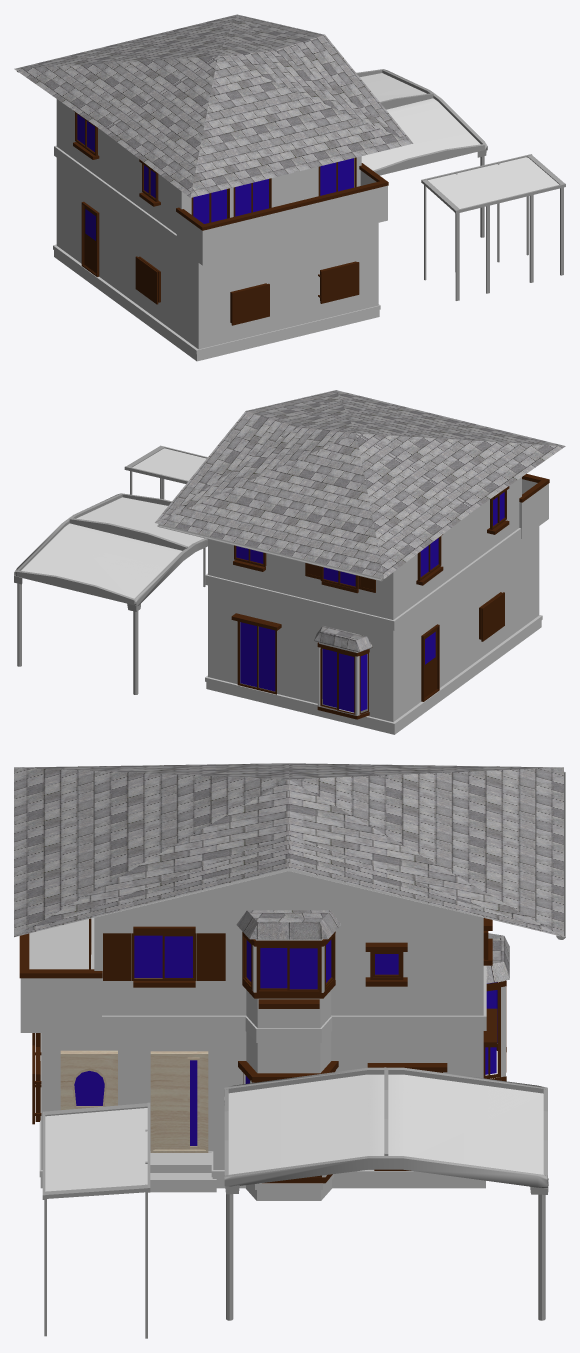
Rendered from house12_middle.fbx.
3 renders of one model, top to bottom at view 1: azimuth 30°, elevation 25°; view 2: azimuth 150°, elevation 25°; view 3: azimuth 270°, elevation 25°, orthographic. The views are drawn at different scales.
Parts seen in each view (by area): view 1: pCube189; view 2: pCube189; view 3: pCube189.
Boxes of the visible parts, <box> form: pCube189: <box>14,14,565,361</box>; pCube189: <box>14,390,565,734</box>; pCube189: <box>14,763,565,1338</box>.
Bounding box in the file's own units: 24.33 × 13.86 × 19.39.
